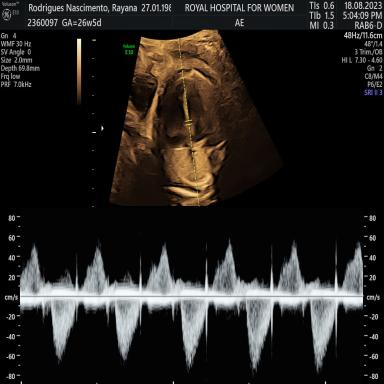Ultrasound-Waves: (25, 214, 361, 384)
